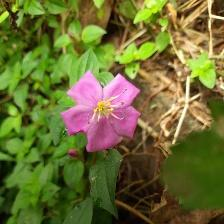malabar melastome: (60, 69, 142, 152)
